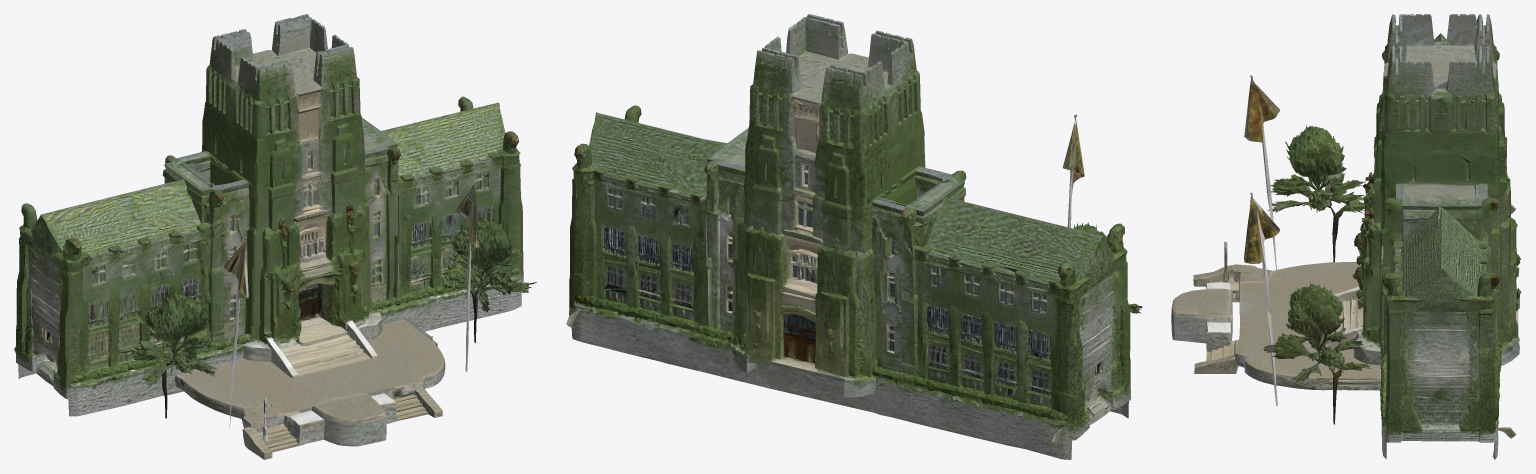
3 views of the same model, side by side, from view 1: azimuth 30°, elevation 25°; view 2: azimuth 150°, elevation 25°; view 3: azimuth 270°, elevation 25° (orthographic). The views are drawn at different scales.
Visible parts, largest first — view 1: Mesh_0; view 2: Mesh_0; view 3: Mesh_0.
Part boxes in pixels (x1,y1,x2,y2): Mesh_0: (14,14,536,459); Mesh_0: (566,14,1142,459); Mesh_0: (1171,14,1521,459).
Size of the model in its own units: 1.9 by 1.19 by 1.2.
1 material, 1 textured.
